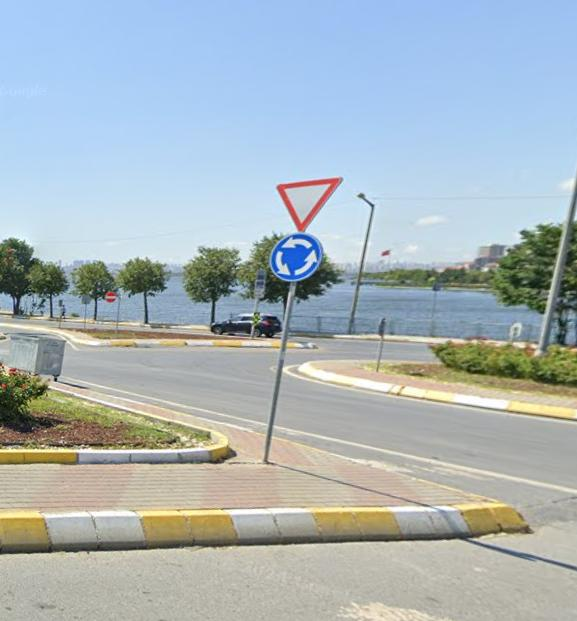crossroads: (271, 235, 322, 280)
